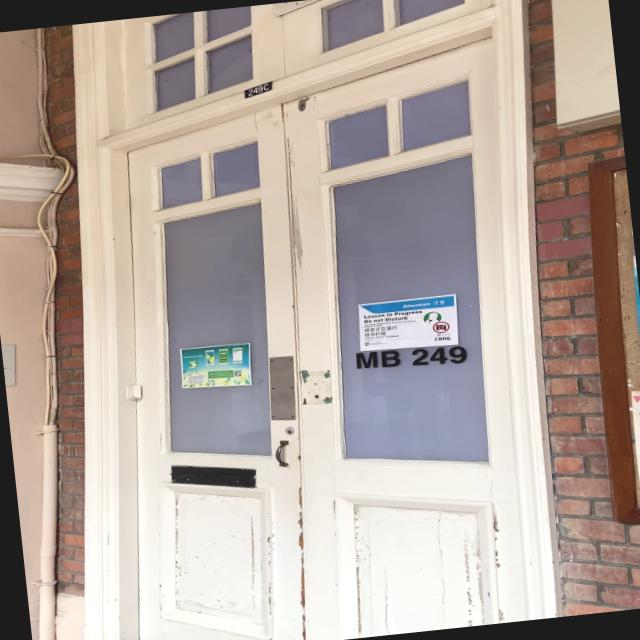room249c: (232, 78, 278, 99)
room249cWindow-: (349, 336, 472, 374)
